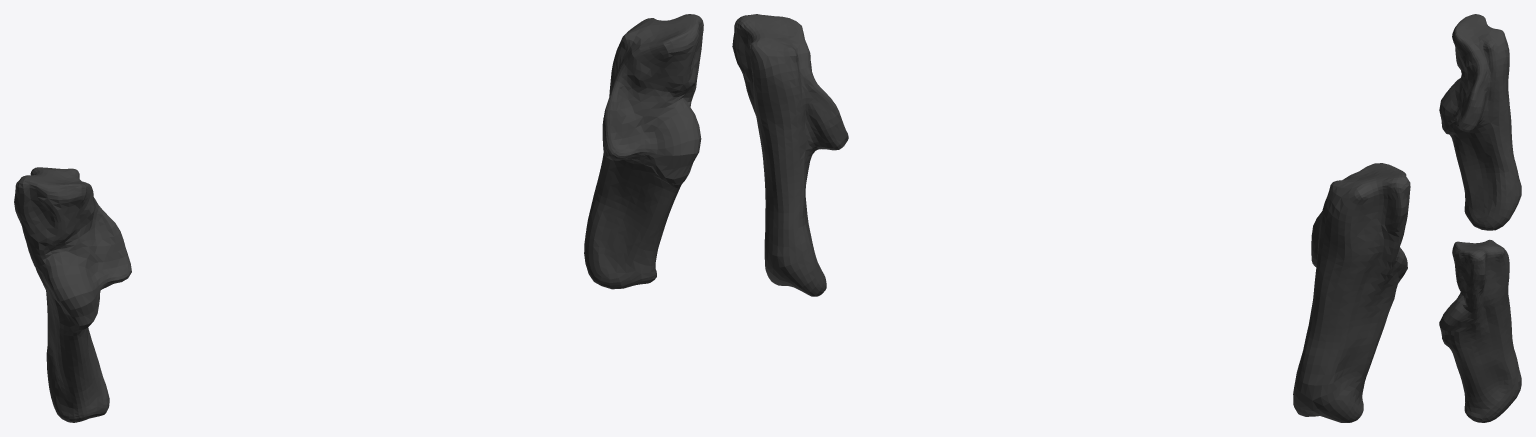
The model's file is Calcaneus_1.glb.
3 renders of one model, left to right at view 1: azimuth 30°, elevation 25°; view 2: azimuth 150°, elevation 25°; view 3: azimuth 270°, elevation 25°, orthographic. The views are drawn at different scales.
Visible parts, largest first — view 1: Calcaneus_1; view 2: Calcaneus_1; view 3: Calcaneus_1.
Part boxes in pixels (left/top/right/bottom): Calcaneus_1: left=14, top=14, right=703, bottom=422; Calcaneus_1: left=732, top=14, right=1410, bottom=422; Calcaneus_1: left=1439, top=14, right=1521, bottom=422.
Size of the model in its own units: 0.00542 by 0.00195 by 0.000777.
1 material, 1 textured.
